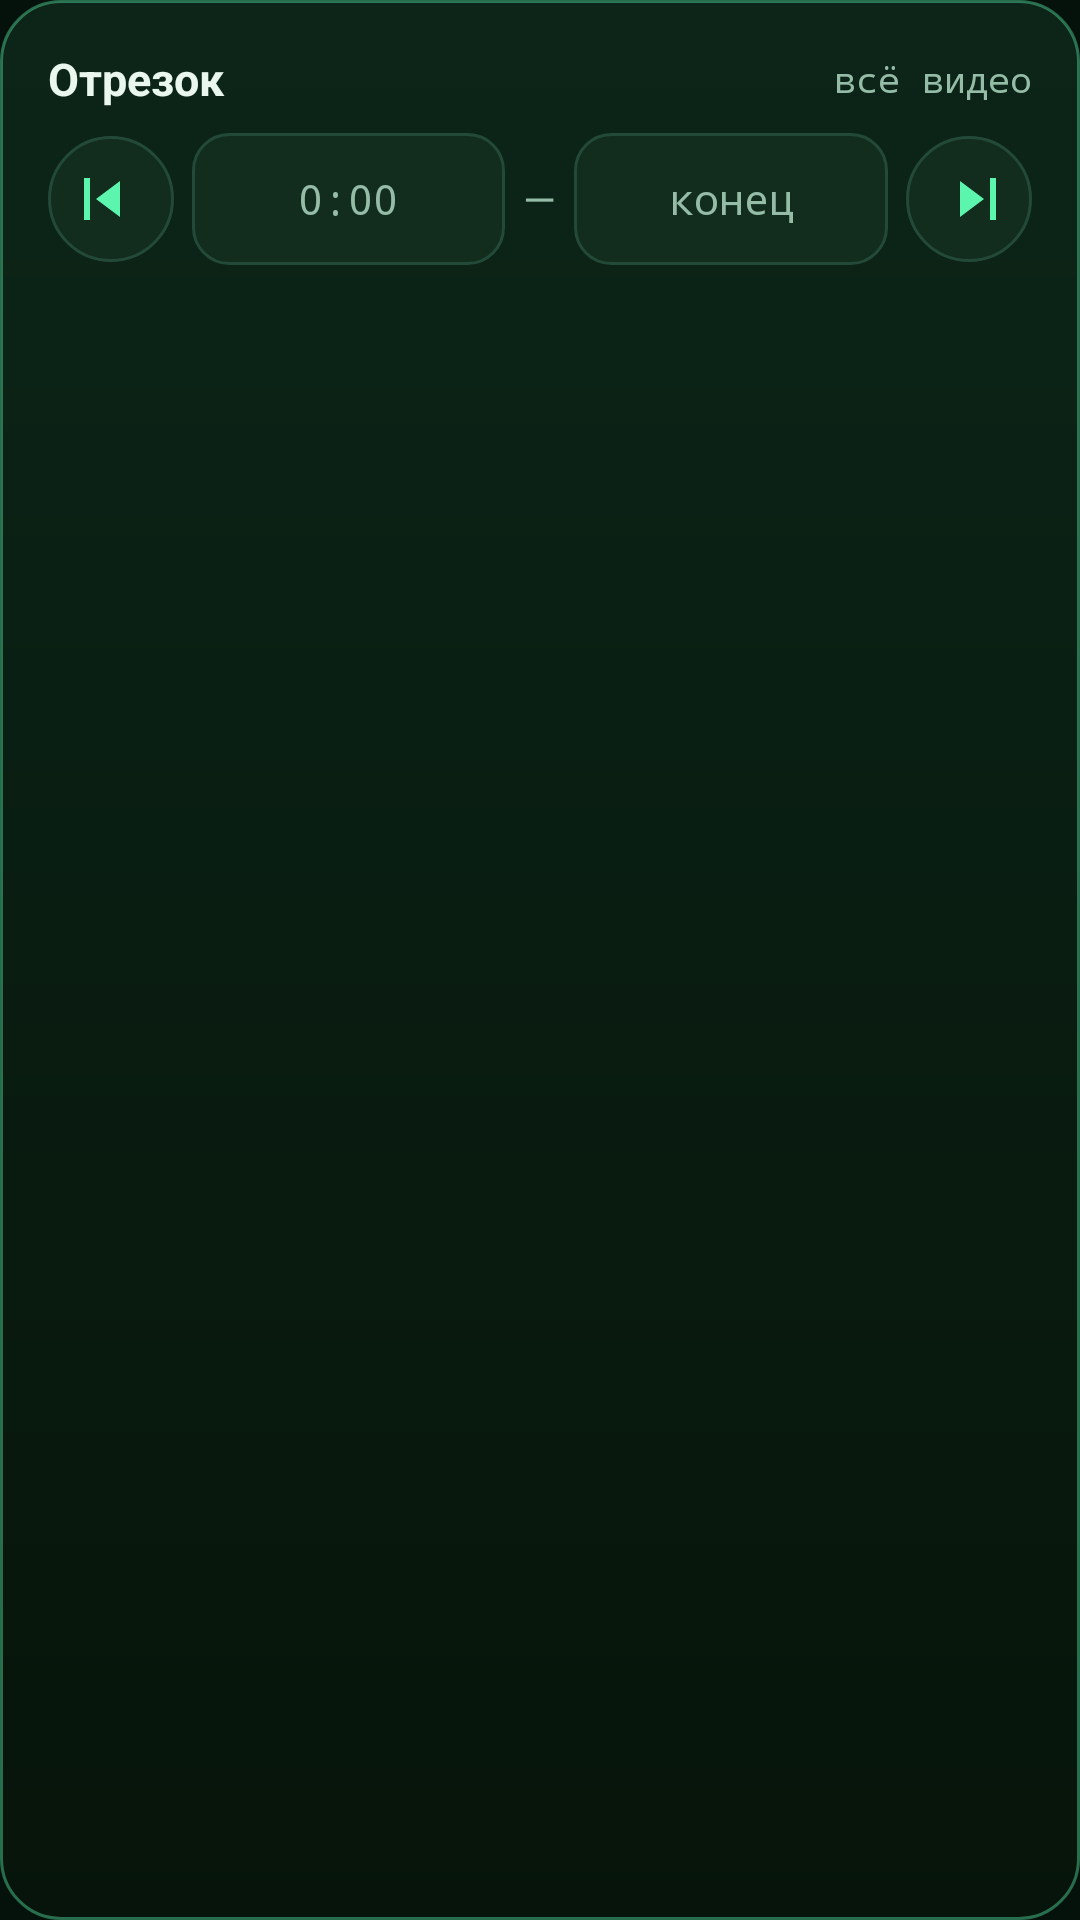

Named icons in this screenshot (1080*1920) and their centers, (x=x, y=y):
Начало = текущий кадр: (x=111, y=199)
